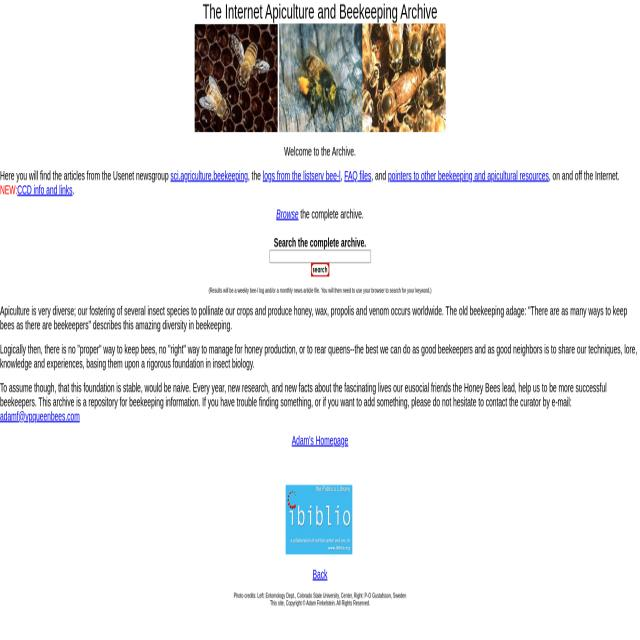button: (194, 23, 278, 132), (279, 23, 363, 132), (362, 23, 446, 132), (286, 484, 352, 554), (311, 263, 329, 277)
field: (269, 250, 371, 263)
